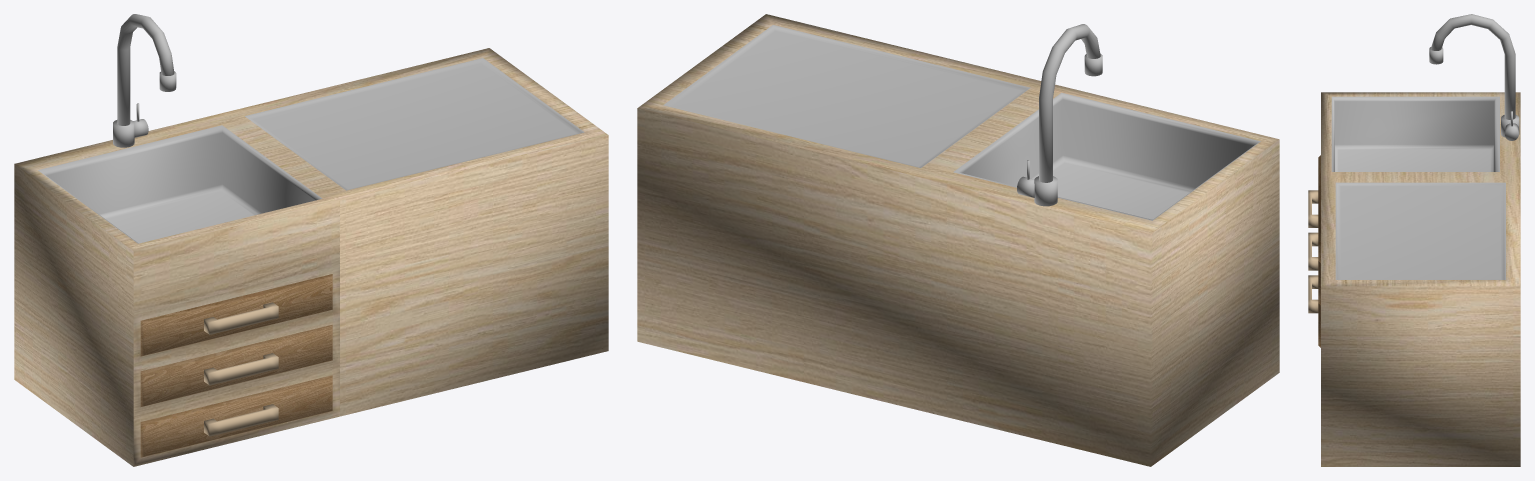
File: Westafel.fbx
3 views of the same model, side by side, from view 1: azimuth 30°, elevation 25°; view 2: azimuth 150°, elevation 25°; view 3: azimuth 270°, elevation 25° (orthographic). The views are drawn at different scales.
Visible parts, largest first — view 1: wastafle; view 2: wastafle; view 3: wastafle.
Boxes of the visible parts, x1=… form: wastafle: x1=14, y1=14, x2=608, y2=466; wastafle: x1=637, y1=14, x2=1279, y2=466; wastafle: x1=1308, y1=14, x2=1520, y2=466.
Bounding box in the file's own units: 460 × 333 × 213.
